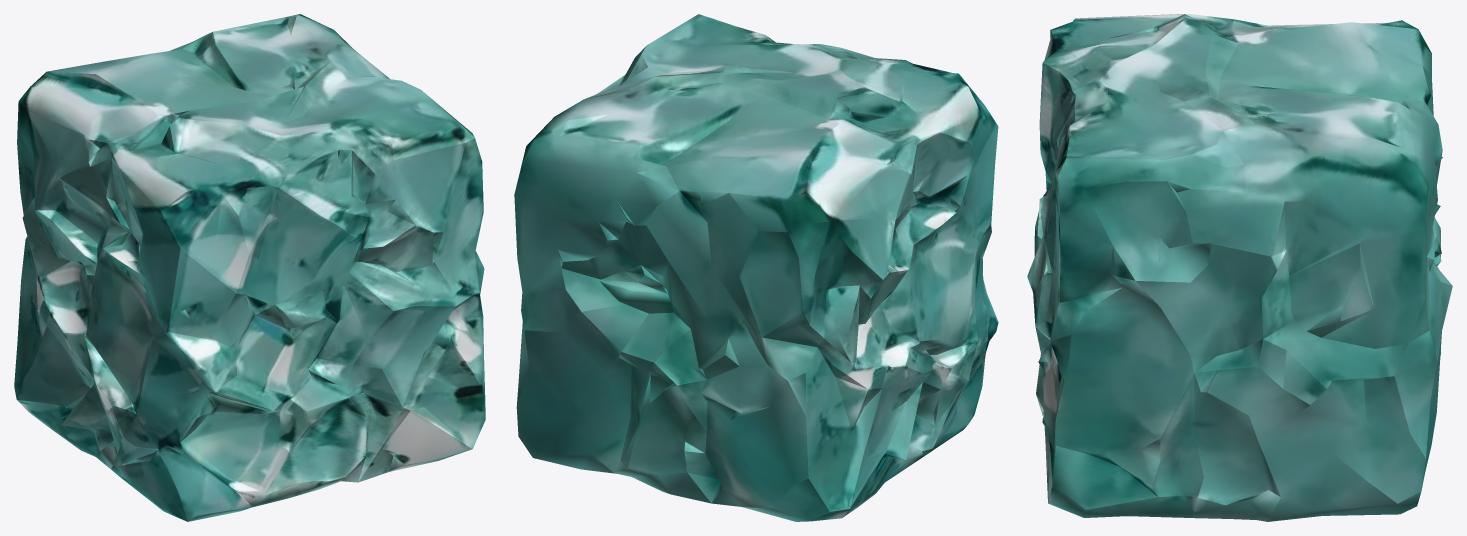
File: iceBlock.glb
3 views of the same model, side by side, from view 1: azimuth 30°, elevation 25°; view 2: azimuth 150°, elevation 25°; view 3: azimuth 270°, elevation 25° (orthographic). The views are drawn at different scales.
Parts seen in each view (by area): view 1: model; view 2: model; view 3: model.
Part boxes in pixels (x1,y1,x2,y2): model: (14,14,485,521); model: (514,14,998,521); model: (1027,14,1452,521).
Bounding box in the file's own units: 1.89 × 1.9 × 1.89.
1 material, 1 textured.
